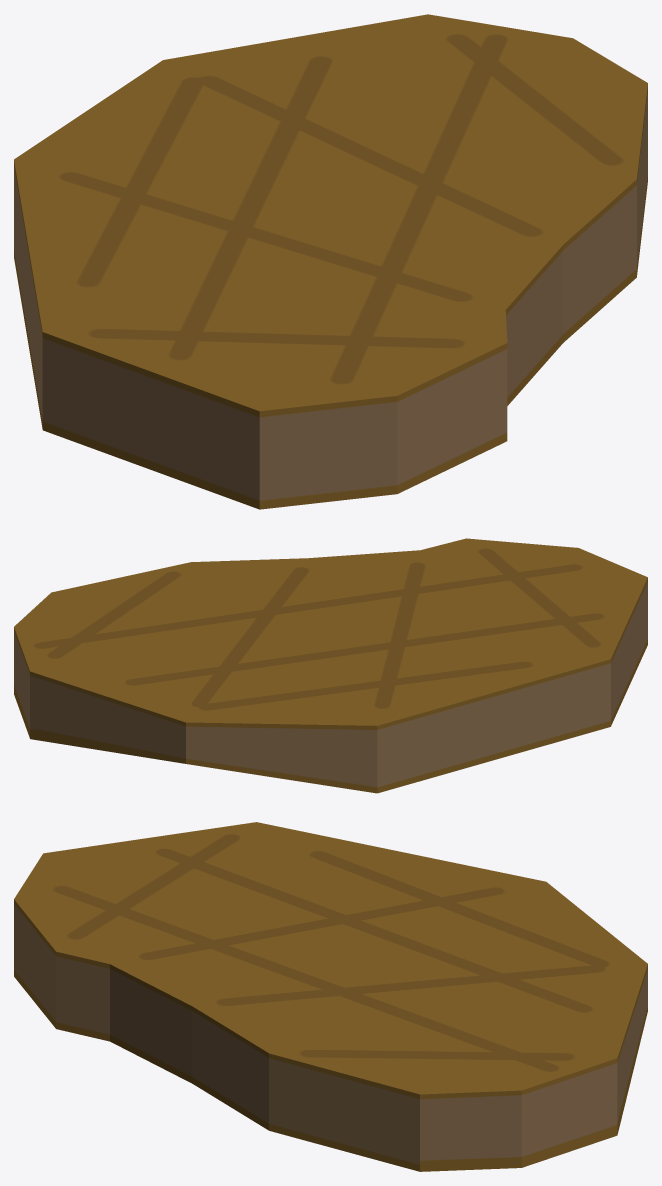
The model's file is Cooked Steak.FBX.
3 renders of one model, top to bottom at view 1: azimuth 30°, elevation 25°; view 2: azimuth 150°, elevation 25°; view 3: azimuth 270°, elevation 25°, orthographic. The views are drawn at different scales.
Parts seen in each view (by area): view 1: Beef001; view 2: Beef001; view 3: Beef001.
Part boxes in pixels (x1,y1,x2,y2): Beef001: (14,14,647,509); Beef001: (14,538,647,793); Beef001: (14,822,647,1171).
Bounding box in the file's own units: 50.69 × 6.72 × 49.85.
